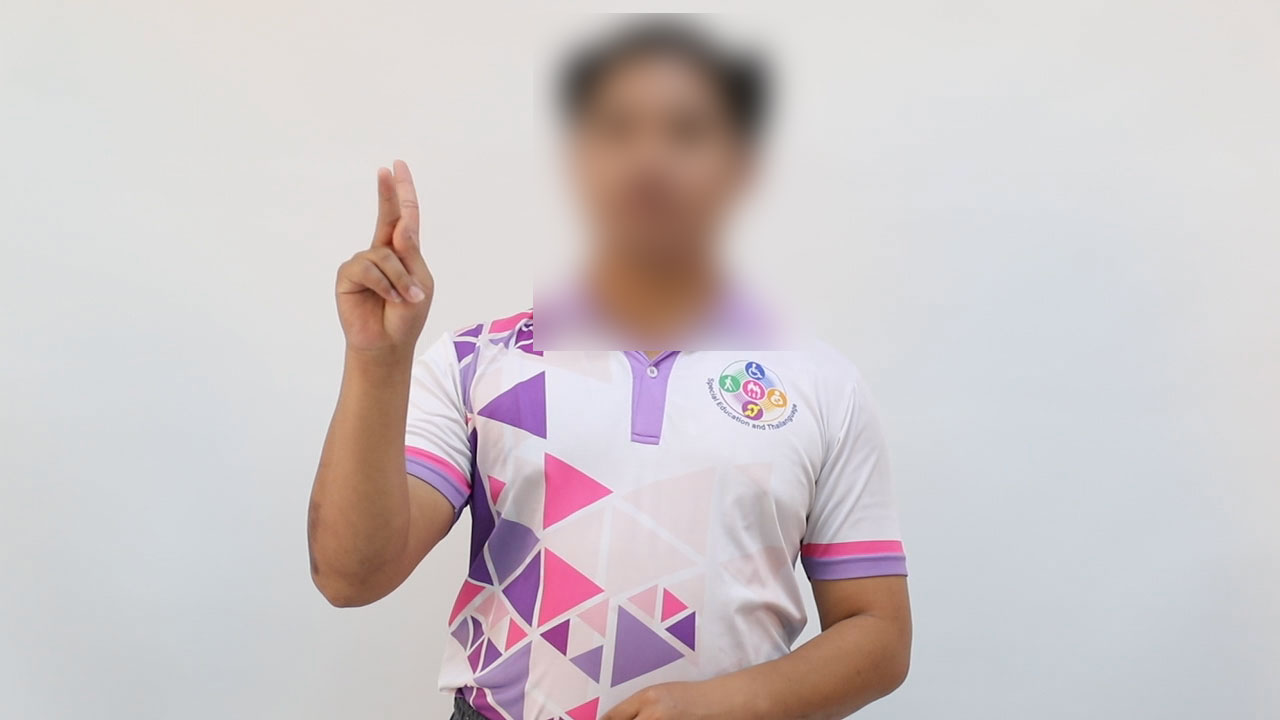ko: (315, 151, 456, 345)
